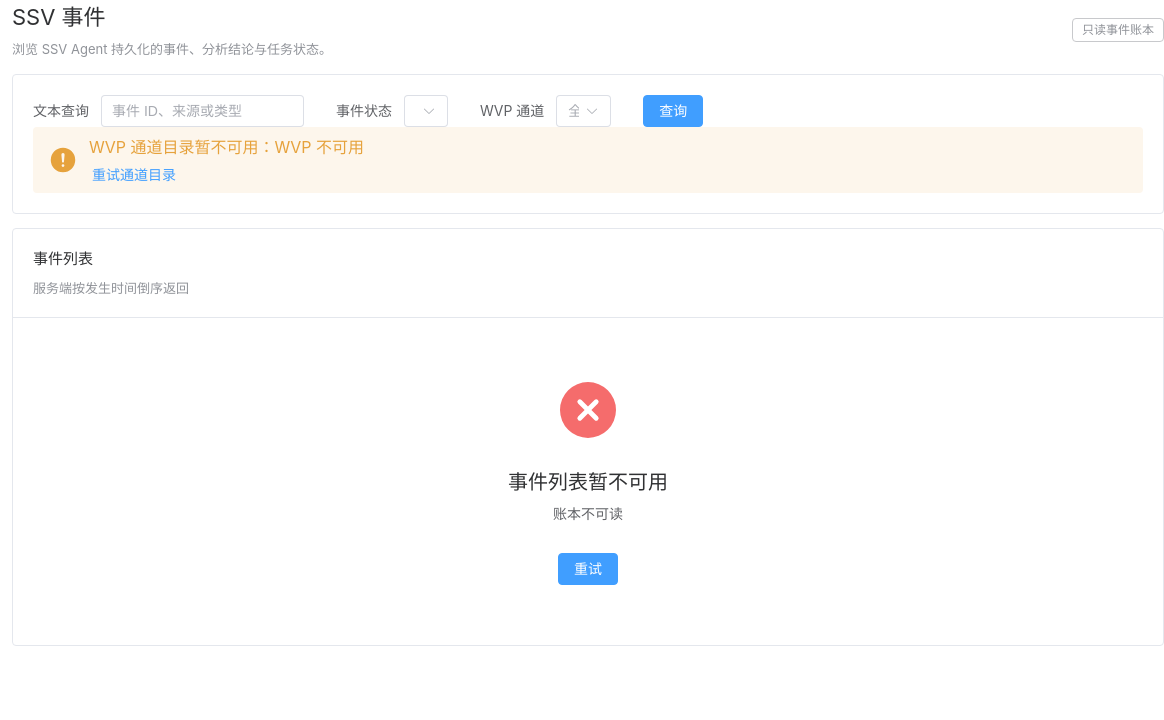
it: SSV 事件列表页面 › 列表请求和 WVP 通道目录分别可重试
Click the button "重试": (588, 569) [558,553,618,585]
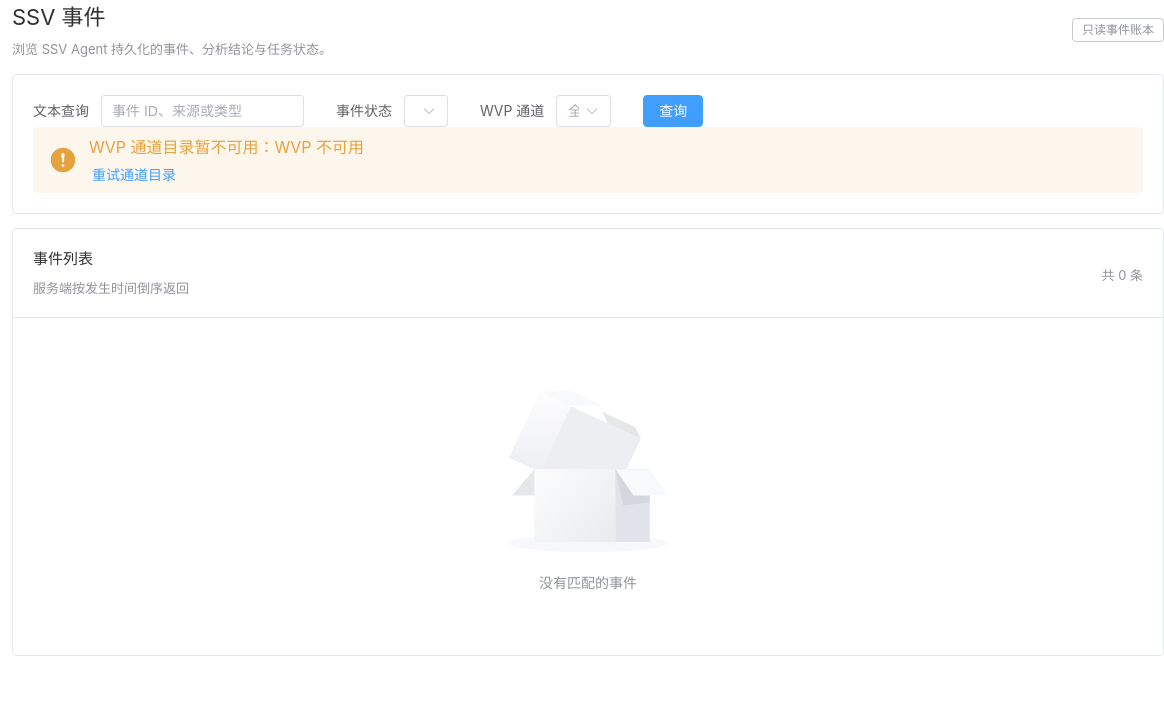
Click the button "重试通道目录": (134, 175) [89,165,179,185]
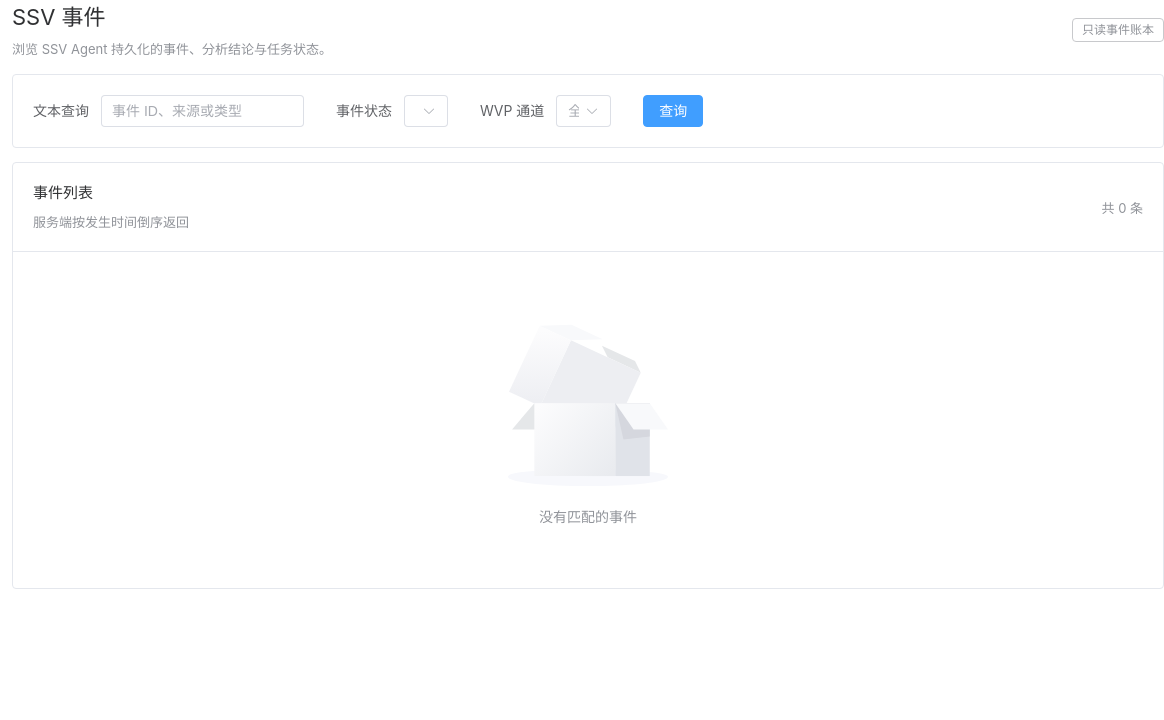
Expected: the text "没有匹配的事件" is shown, [539,506,637,528]
Expected: the text "重试通道目录" is gone
